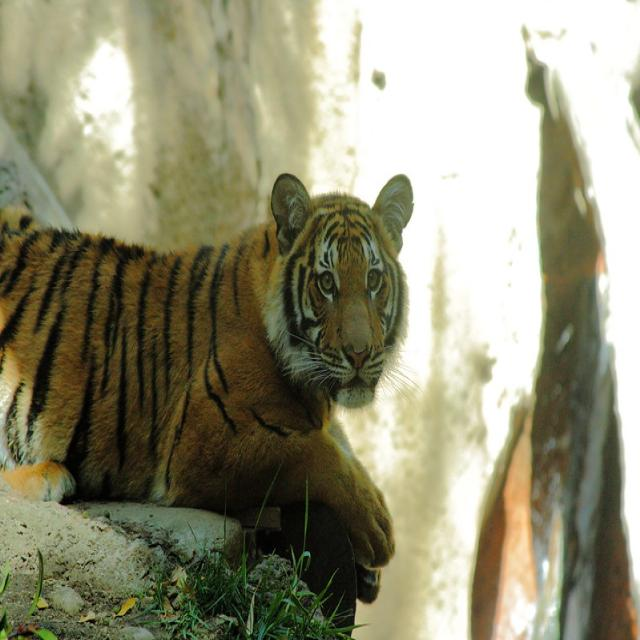Tiger: (0, 169, 415, 569)
